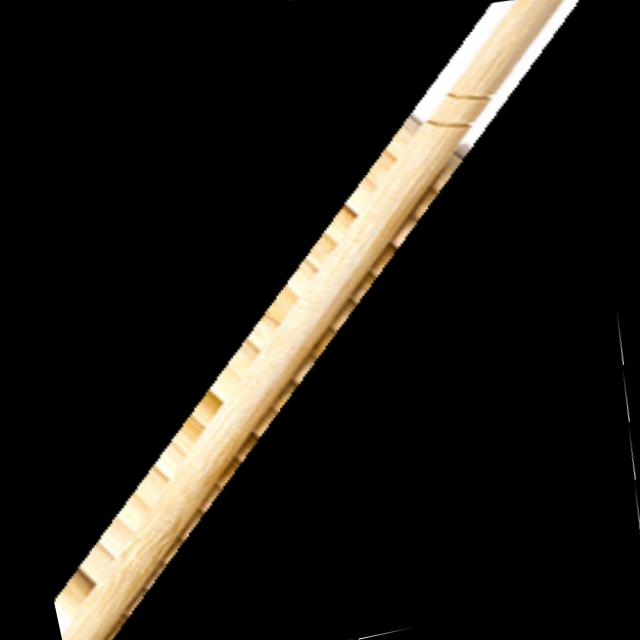others: (54, 0, 568, 640)
